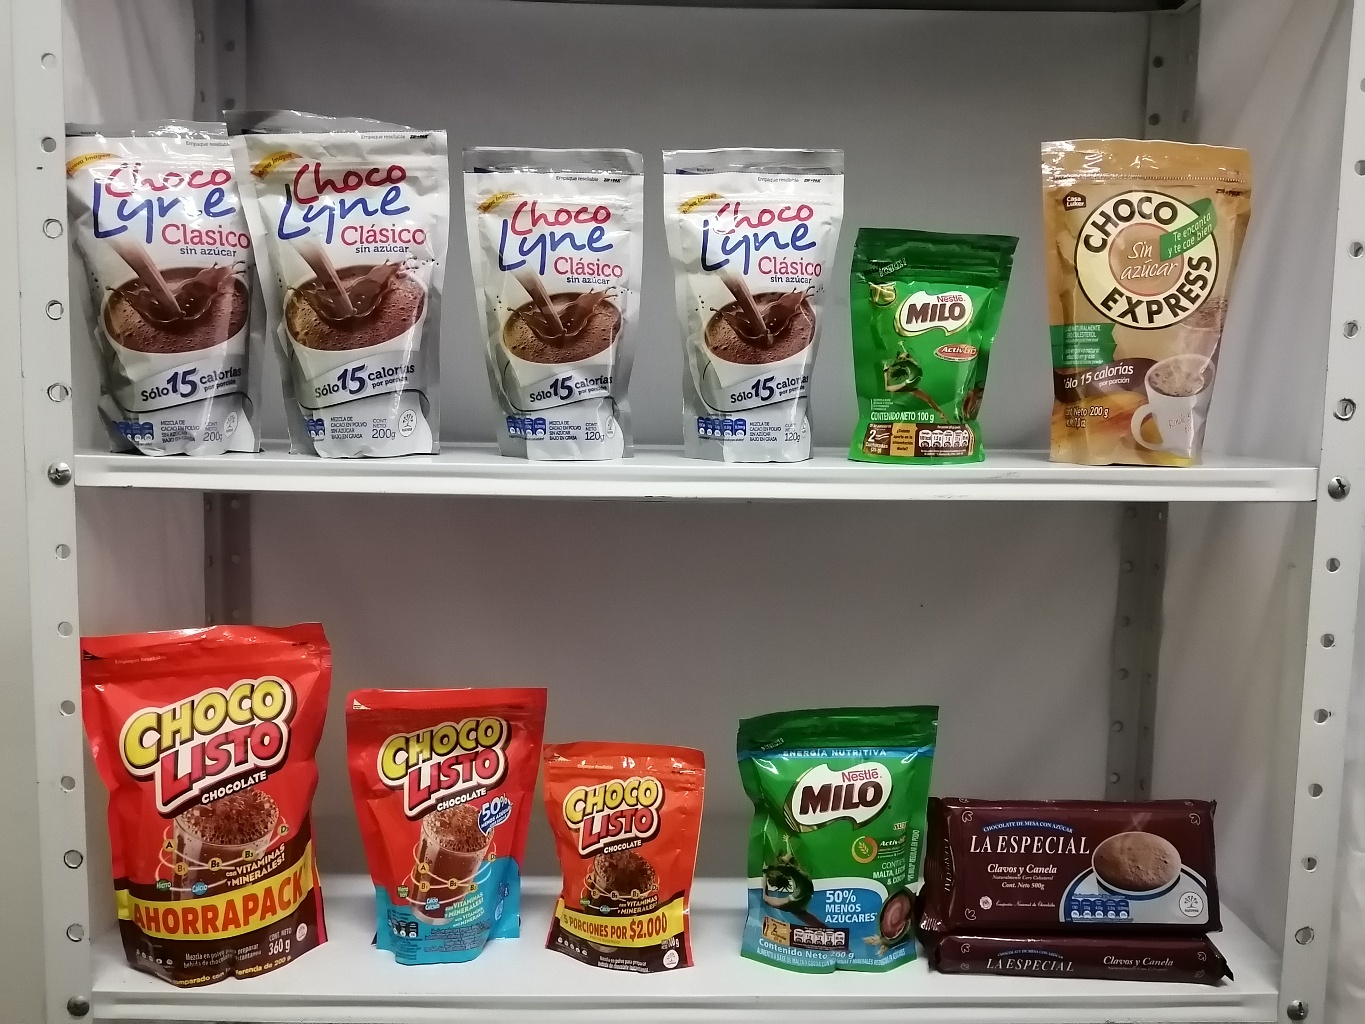COL0170103DYP36000: (67, 622, 341, 987)
COL0170104DYP20000: (337, 681, 550, 966)
COL0170203DYP10000: (857, 219, 1016, 463)
COL0170205DYP20000: (739, 696, 943, 975)
